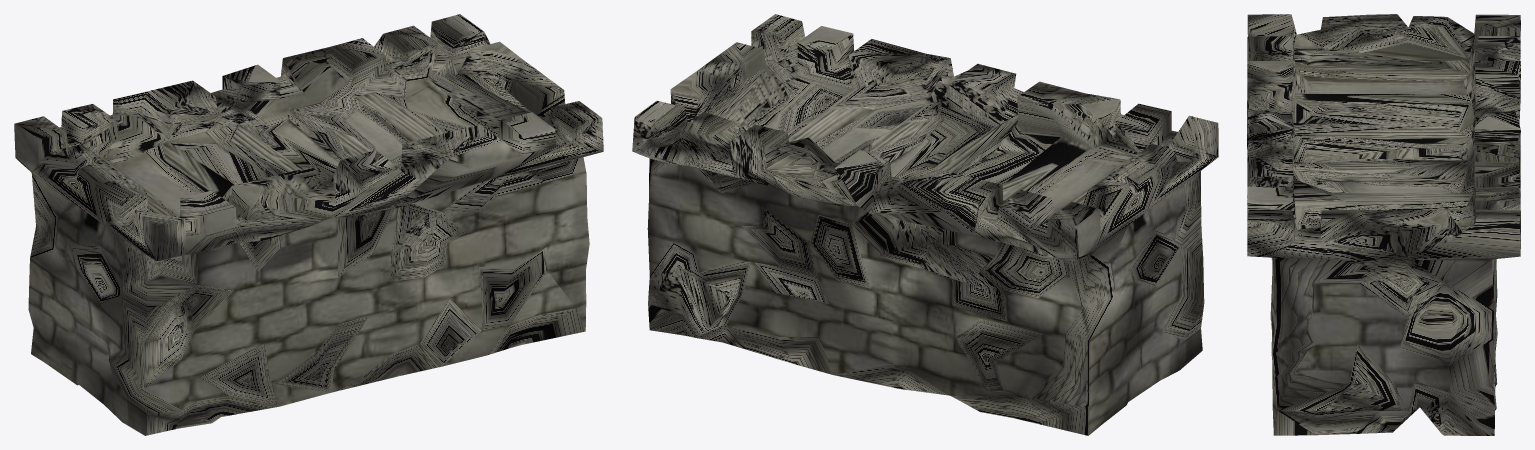
Rendered from meshy_wall_battlement_block_lod1.glb.
3 renders of one model, left to right at view 1: azimuth 30°, elevation 25°; view 2: azimuth 150°, elevation 25°; view 3: azimuth 270°, elevation 25°, orthographic. The views are drawn at different scales.
Size of the model in its own units: 9.38 by 4.5 by 5.17.
Materials: 1 (1 with a texture image).
